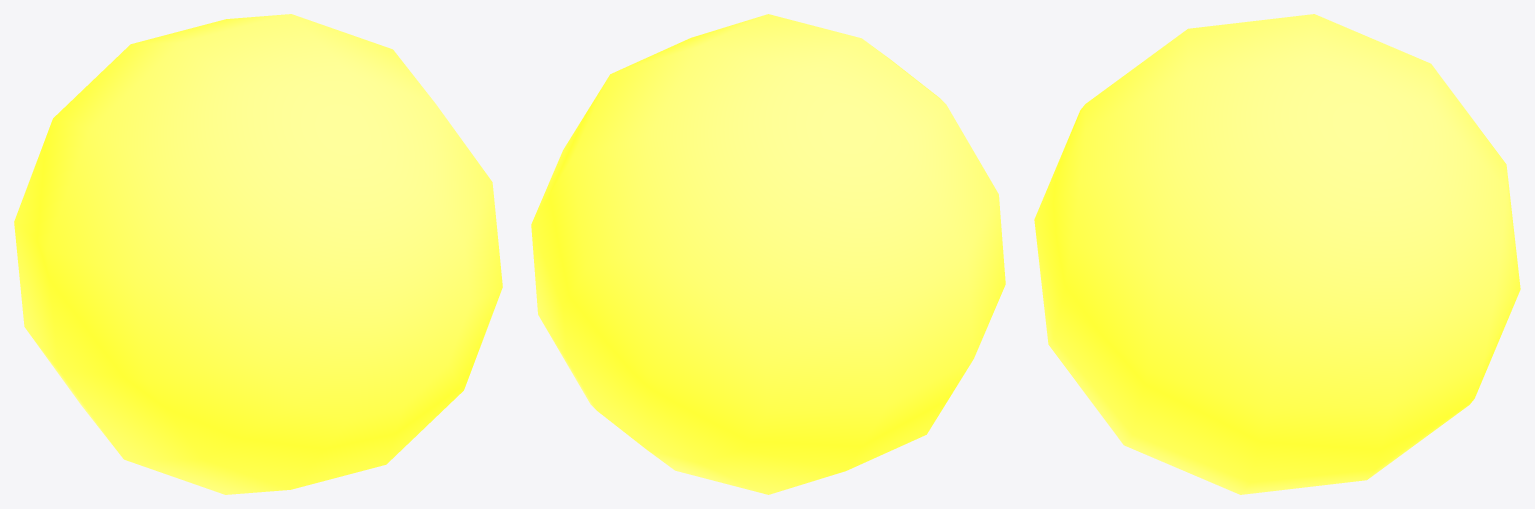
Rendered from IncorporationOf_type02.FBX.
3 renders of one model, left to right at view 1: azimuth 30°, elevation 25°; view 2: azimuth 150°, elevation 25°; view 3: azimuth 270°, elevation 25°, orthographic. The views are drawn at different scales.
Parts seen in each view (by area): view 1: IncorporationOf_type02; view 2: IncorporationOf_type02; view 3: IncorporationOf_type02.
Boxes of the visible parts, <box> form: IncorporationOf_type02: <box>14,14,502,494</box>; IncorporationOf_type02: <box>531,14,1005,494</box>; IncorporationOf_type02: <box>1034,14,1520,494</box>.
Size of the model in its own units: 4.4 by 4.34 by 4.48.
